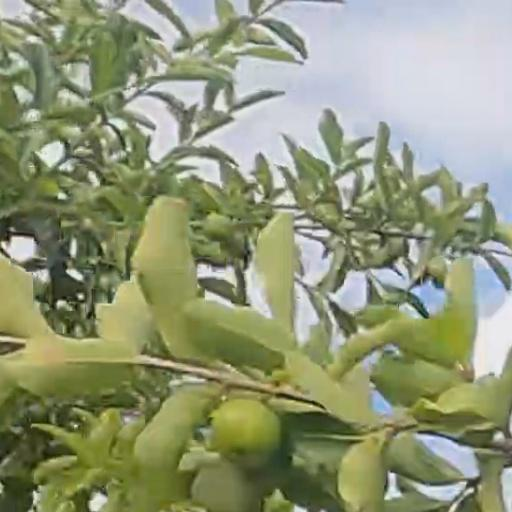acerola_verde: (213, 399, 282, 467)
